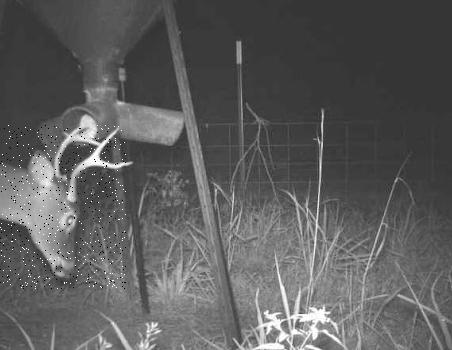Deer: (0, 125, 126, 289)
